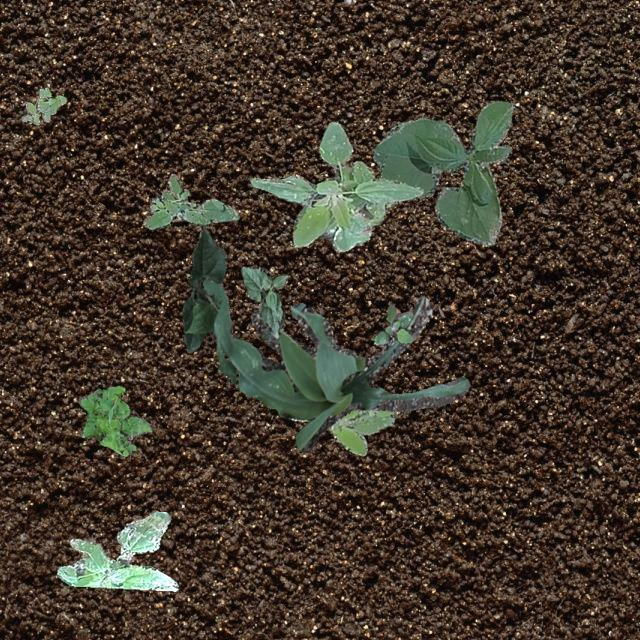crop: (202, 278, 468, 452), (250, 120, 422, 252), (372, 100, 514, 243), (182, 228, 226, 352), (240, 266, 286, 338)
weed: (56, 510, 176, 590), (142, 172, 238, 228), (77, 384, 152, 454), (290, 408, 394, 454), (372, 302, 412, 344), (20, 86, 64, 124)
